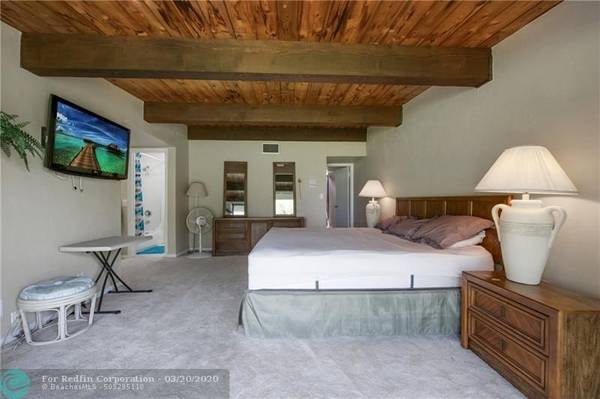bed: (244, 226, 500, 335)
lamp: (475, 145, 583, 285)
night stand: (460, 268, 600, 399)
